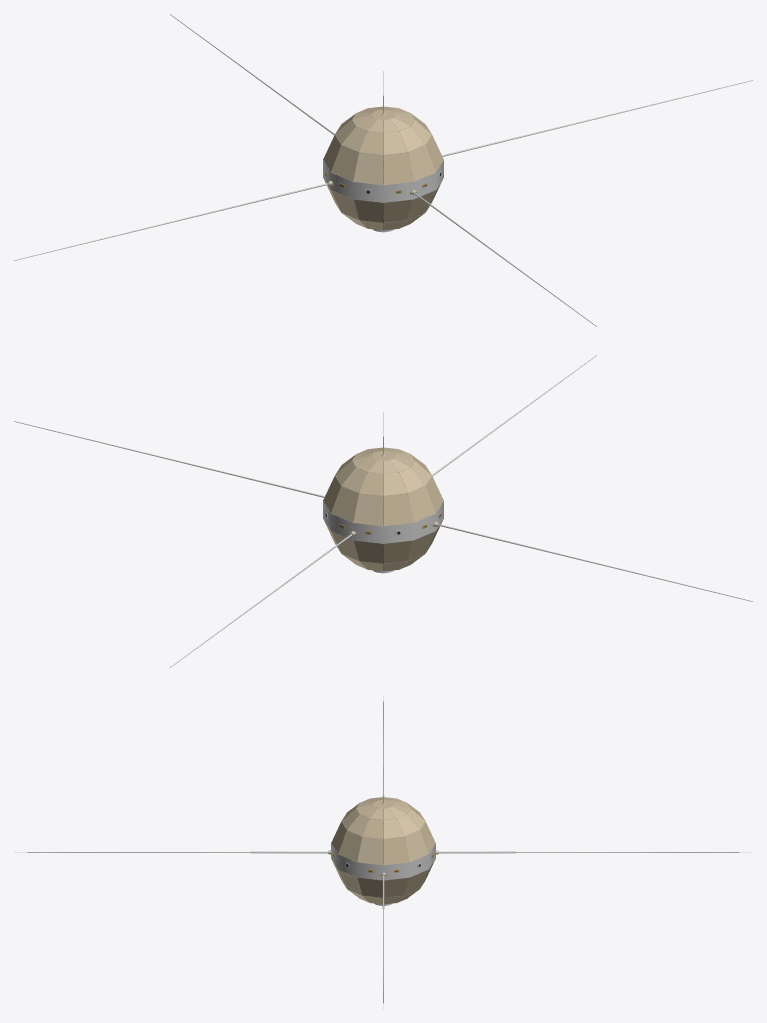
The model's file is dongfanghong1_v03_meters.glb.
3 views of the same model, one above another, from view 1: azimuth 30°, elevation 25°; view 2: azimuth 150°, elevation 25°; view 3: azimuth 270°, elevation 25° (orthographic). The views are drawn at different scales.
Visible parts, largest first — view 1: 中央腰带_高度160mm估计, 上壳_圈1_面08, 上壳_圈1_面09, 上壳_圈1_面07, 上壳_圈1_面10, 长天线3_3000mm, 长天线1_3000mm, 下壳_圈1_面08, 下壳_圈1_面09; view 2: 中央腰带_高度160mm估计, 上壳_圈1_面04, 上壳_圈1_面05, 上壳_圈1_面03, 上壳_圈1_面06, 长天线3_3000mm, 长天线1_3000mm, 下壳_圈1_面04, 下壳_圈1_面05; view 3: 中央腰带_高度160mm估计, 上壳_圈1_面01, 上壳_圈1_面12.
Part boxes in pixels (box(x1,y1,x2,y2)): 中央腰带_高度160mm估计: box(323, 160, 443, 202); 上壳_圈1_面08: box(353, 152, 383, 184); 上壳_圈1_面09: box(383, 152, 413, 184); 上壳_圈1_面07: box(331, 145, 358, 181); 上壳_圈1_面10: box(408, 145, 435, 181); 长天线3_3000mm: box(14, 183, 328, 260); 长天线1_3000mm: box(442, 80, 752, 156); 下壳_圈1_面08: box(353, 199, 383, 222); 下壳_圈1_面09: box(383, 199, 413, 222); 中央腰带_高度160mm估计: box(323, 501, 443, 543); 上壳_圈1_面04: box(353, 493, 383, 525); 上壳_圈1_面05: box(383, 493, 413, 525); 上壳_圈1_面03: box(331, 486, 358, 522); 上壳_圈1_面06: box(408, 486, 435, 522); 长天线3_3000mm: box(438, 524, 752, 601); 长天线1_3000mm: box(14, 421, 324, 497); 下壳_圈1_面04: box(353, 540, 383, 563); 下壳_圈1_面05: box(383, 540, 413, 563); 中央腰带_高度160mm估计: box(331, 843, 435, 880); 上壳_圈1_面01: box(383, 837, 409, 865); 上壳_圈1_面12: box(357, 837, 383, 865).
Size of the model in its own units: 7.05 by 1.43 by 7.05.
